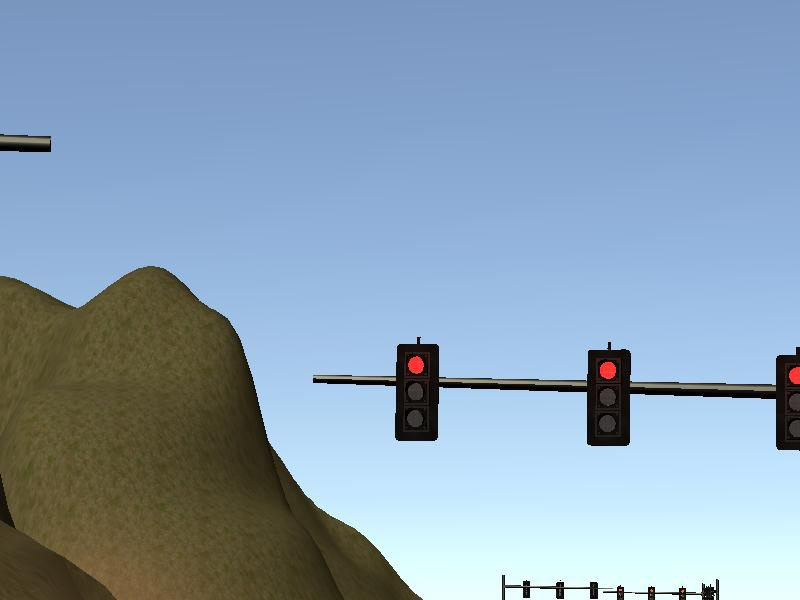red_light: (398, 346, 440, 439), (591, 352, 628, 445)
